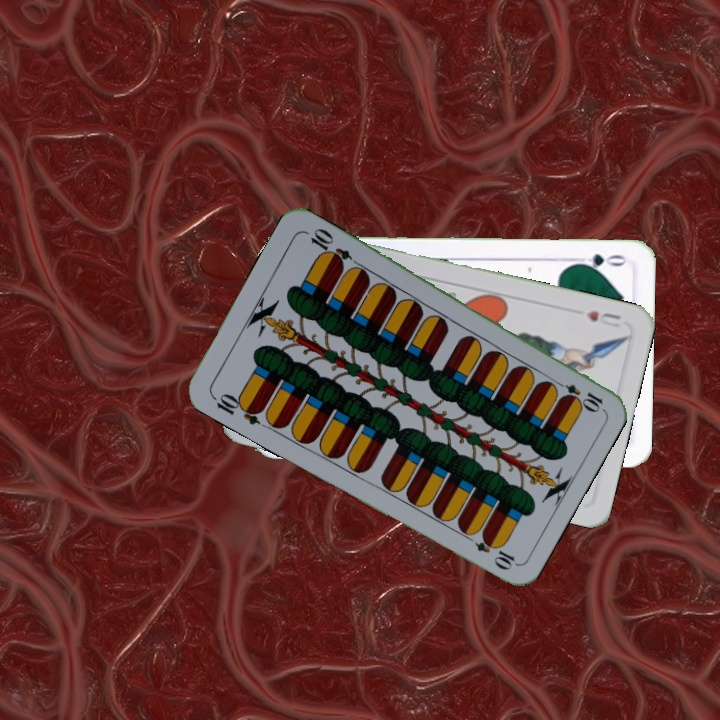E10: (208, 389, 266, 428), (549, 376, 606, 413)
GO: (570, 249, 628, 273)
HU: (582, 306, 624, 330)
